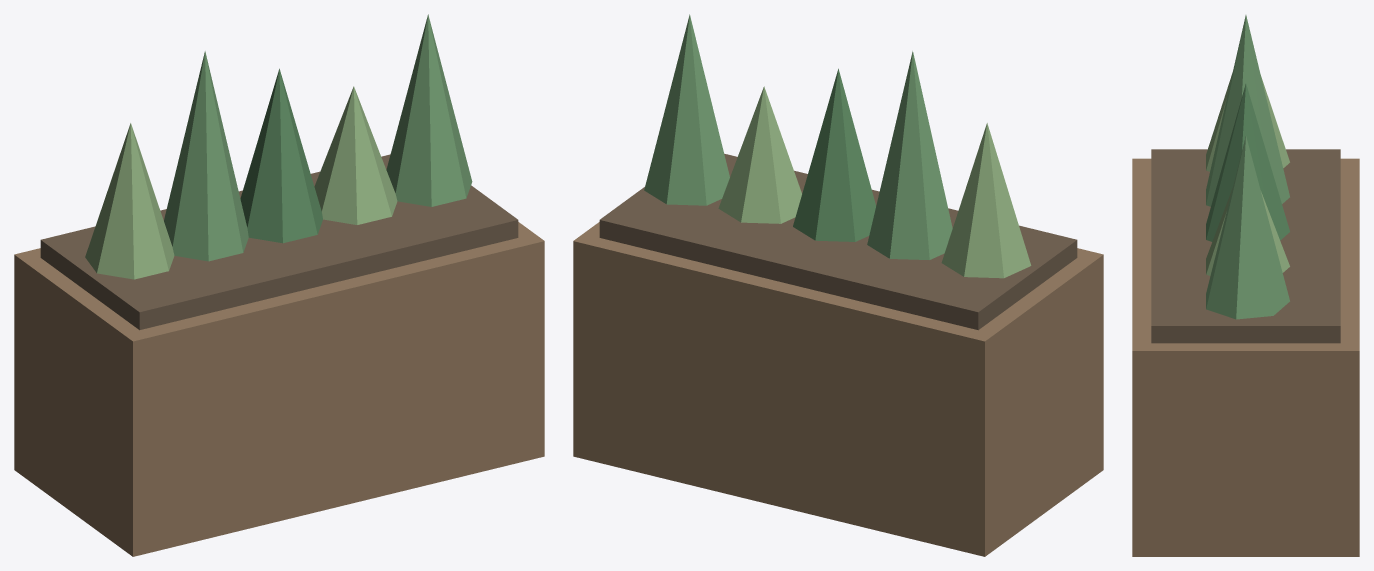
Rendered from pla_horta_janela.glb.
The picture shows the model from 3 angles, left to right: view 1: azimuth 30°, elevation 25°; view 2: azimuth 150°, elevation 25°; view 3: azimuth 270°, elevation 25°; orthographic projection. The views are drawn at different scales.
Visible parts, largest first — view 1: PLA_HORTA_JANELA_v01; view 2: PLA_HORTA_JANELA_v01; view 3: PLA_HORTA_JANELA_v01.
Boxes of the visible parts, left/top/right/bottom form: PLA_HORTA_JANELA_v01: left=14, top=14, right=544, bottom=556; PLA_HORTA_JANELA_v01: left=573, top=14, right=1103, bottom=556; PLA_HORTA_JANELA_v01: left=1132, top=15, right=1359, bottom=556.
Size of the model in its own units: 0.36 by 0.36 by 0.18.
